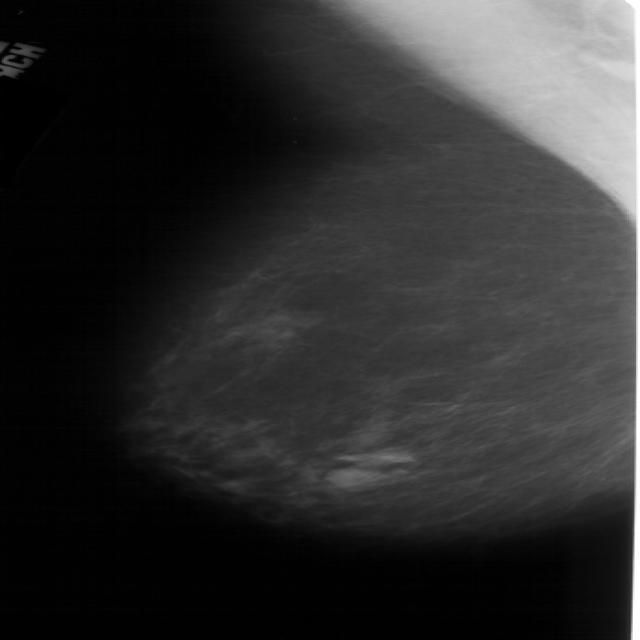tumour: (321, 467, 386, 487)
